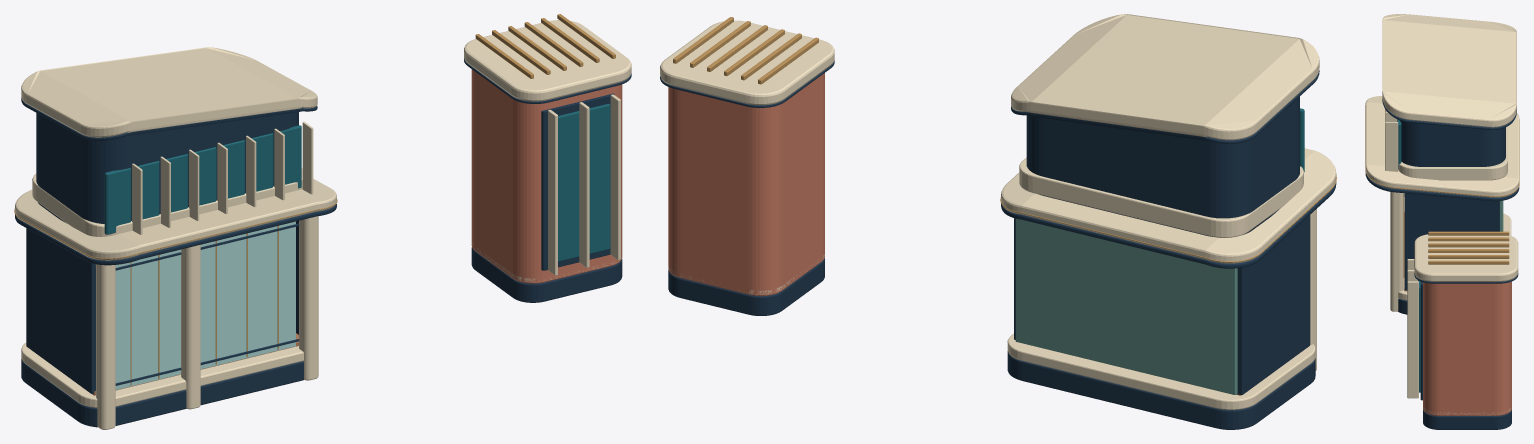
File: sunward-atelier-occlusion-v4.glb
3 renders of one model, left to right at view 1: azimuth 30°, elevation 25°; view 2: azimuth 150°, elevation 25°; view 3: azimuth 270°, elevation 25°, orthographic. The views are drawn at different scales.
Visible parts, largest first — view 1: Atelier Porcelain Surface conditioned export.001, Atelier Indigo Surface conditioned export.001, Atelier Clear Glass Surface.004, Atelier Coral Surface conditioned export.001, Atelier Glazing Surface conditioned export.001, Atelier Brass Surface conditioned export.001; view 2: Atelier Porcelain Surface conditioned export.001, Atelier Indigo Surface conditioned export.001, Atelier Coral Surface conditioned export.001, Atelier Interior Mint Surface conditioned export.001, Atelier Brass Surface conditioned export.001; view 3: Atelier Porcelain Surface conditioned export.001, Atelier Coral Surface conditioned export.001, Atelier Indigo Surface conditioned export.001, Atelier Brass Surface conditioned export.001, Atelier Glazing Surface conditioned export.001.
Boxes of the visible parts, x1,y1,x2,y2 form: Atelier Porcelain Surface conditioned export.001: (15,20,631,429); Atelier Indigo Surface conditioned export.001: (15,58,631,427); Atelier Clear Glass Surface.004: (115,221,295,389); Atelier Coral Surface conditioned export.001: (471,69,622,283); Atelier Glazing Surface conditioned export.001: (104,104,610,261); Atelier Brass Surface conditioned export.001: (14,14,615,385); Atelier Porcelain Surface conditioned export.001: (660,14,1336,409); Atelier Indigo Surface conditioned export.001: (660,60,1336,429); Atelier Coral Surface conditioned export.001: (668,73,824,296); Atelier Interior Mint Surface conditioned export.001: (1015,218,1237,394); Atelier Brass Surface conditioned export.001: (673,17,1336,262); Atelier Porcelain Surface conditioned export.001: (1365,14,1519,415); Atelier Coral Surface conditioned export.001: (1423,281,1511,415); Atelier Indigo Surface conditioned export.001: (1365,98,1519,429); Atelier Brass Surface conditioned export.001: (1365,105,1519,277); Atelier Glazing Surface conditioned export.001: (1397,119,1420,392).
Bounding box in the file's own units: 17.41 × 9.02 × 5.63.
